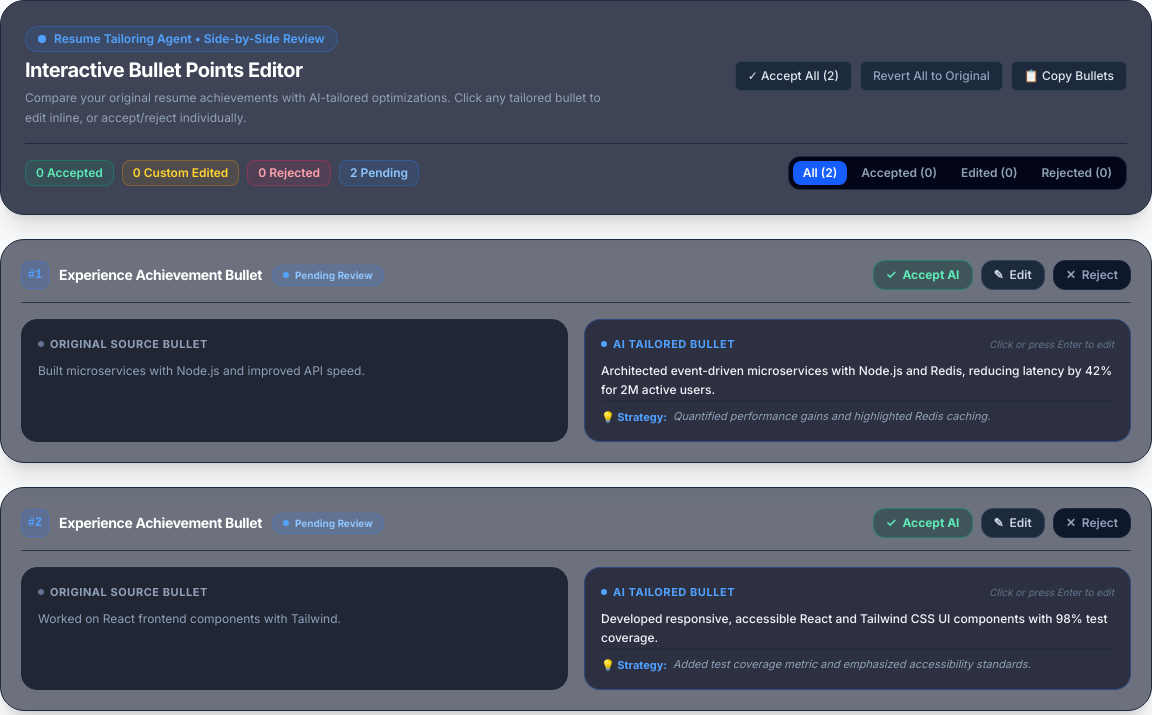
Test: BulletsEditor Component › cancels inline editing without changing the bullet text
Click the button with aria-label "Edit bullet #1 inline".
click(1013, 275)  # box [980,260,1045,290]
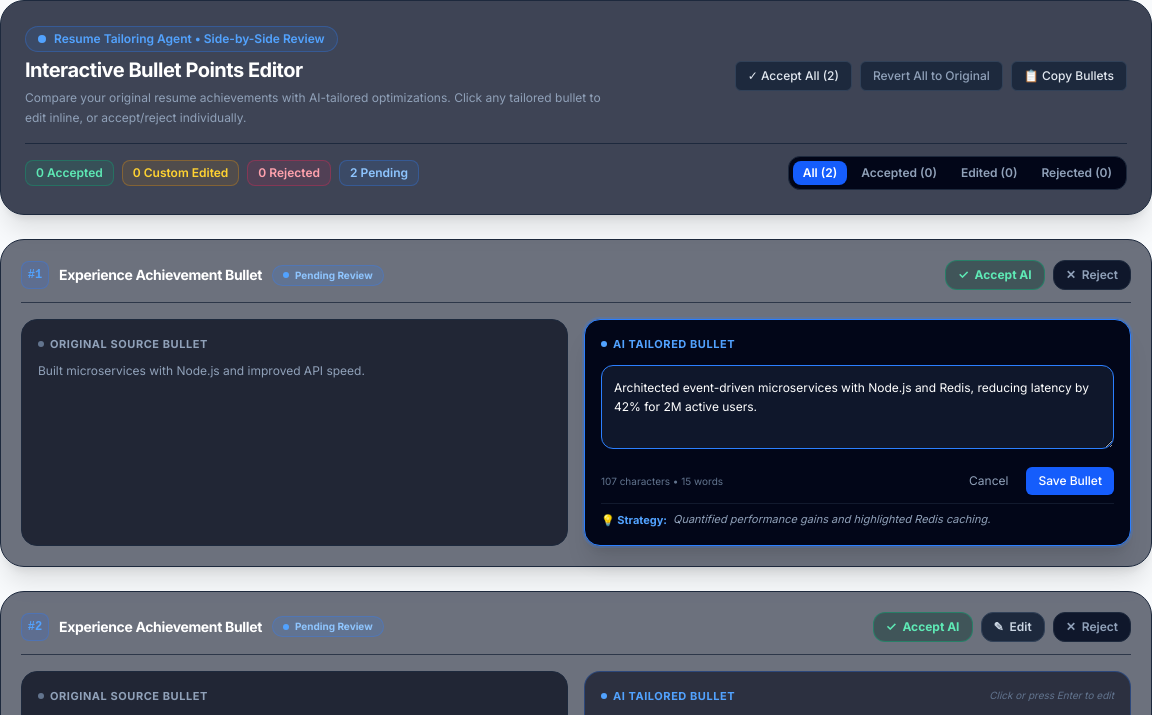
Type " Extra text that should be cancelled" into the text box with placeholder "Edit your tailored achievement bullet...".
click(858, 407); type(" Extra text that should be cancelled")  # box [601,364,1114,449]
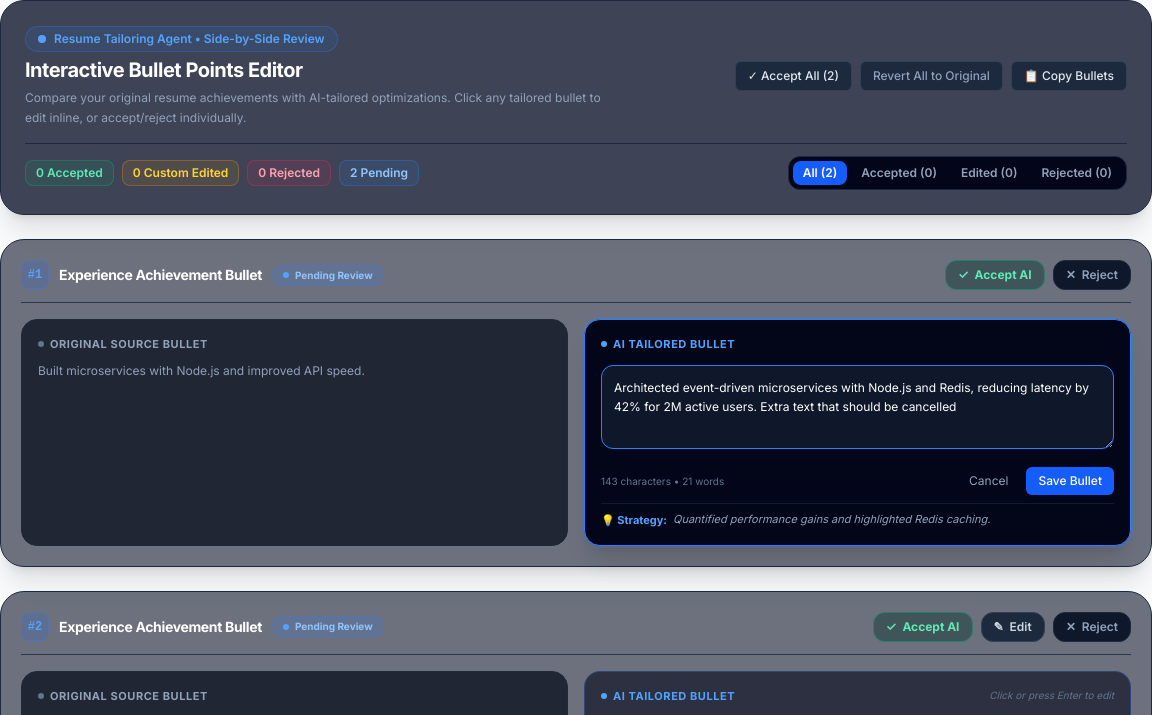
Click the button with aria-label "Cancel editing bullet #1".
click(989, 481)  # box [959,469,1018,493]
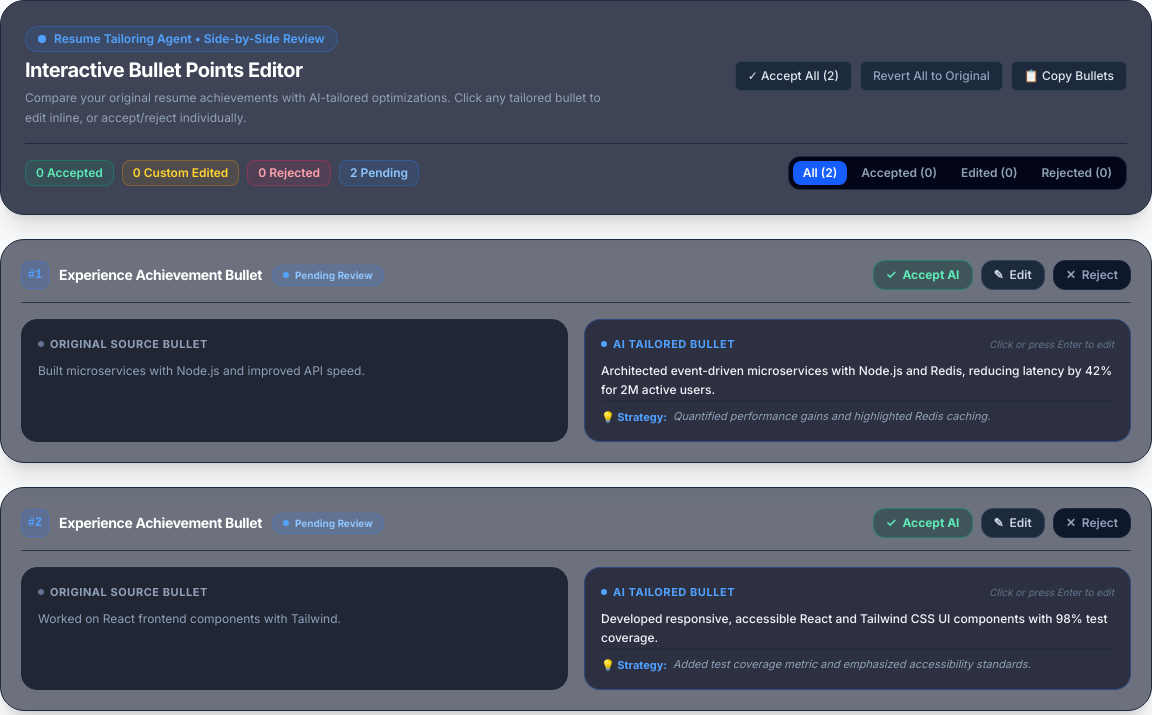
Expected: the text "Architected event-driven microservices" is shown, [601,362,1112,397]
